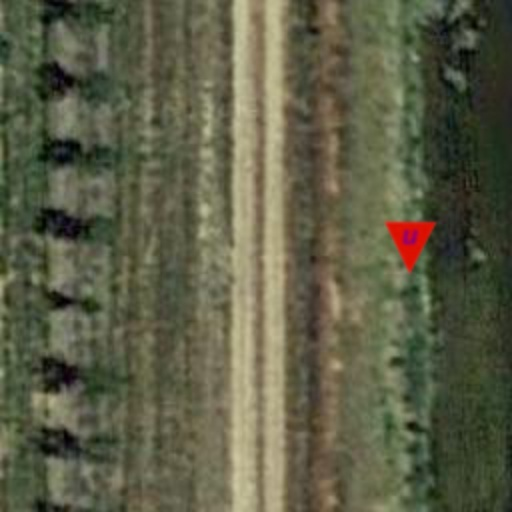triangle: (382, 220, 438, 276)
